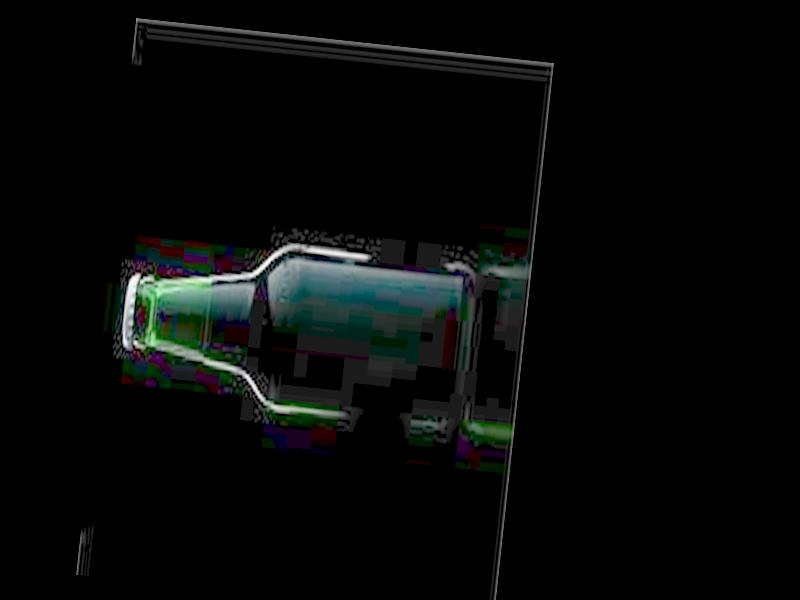Beer: (114, 220, 473, 430)
